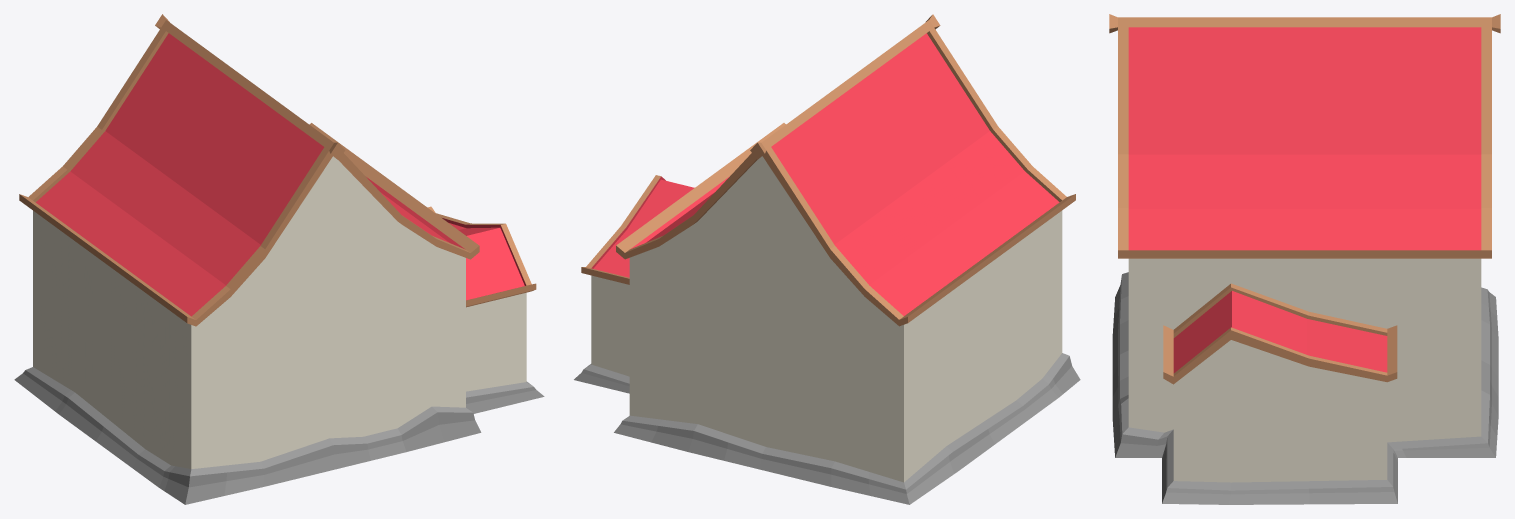
Rendered from House style testing.fbx.
The picture shows the model from 3 angles, left to right: view 1: azimuth 30°, elevation 25°; view 2: azimuth 150°, elevation 25°; view 3: azimuth 270°, elevation 25°; orthographic projection. The views are drawn at different scales.
Visible parts, largest first — view 1: Cube; view 2: Cube; view 3: Cube.
Part boxes in pixels (x1,y1,x2,y2): Cube: (14, 14, 544, 504); Cube: (574, 14, 1080, 504); Cube: (1109, 14, 1500, 504).
Size of the model in its own units: 5.61 by 4.56 by 4.43.
